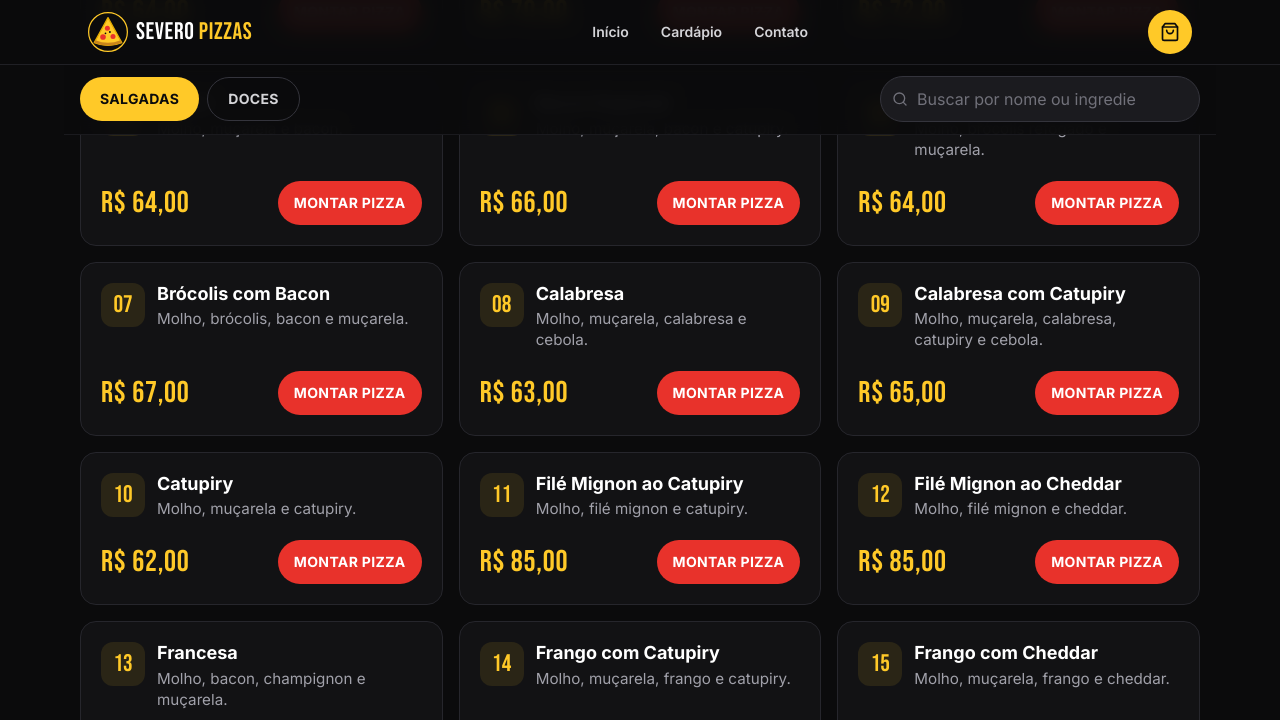
Test: personalizador › meio a meio cobra o sabor mais caro e soma adicional
This screenshot has width=1280, height=720.
(page scrolled)
Click the button with aria-label "Montar pizza Calabresa" at (728,393), box left=656, top=371, right=800, bottom=415
(page scrolled)
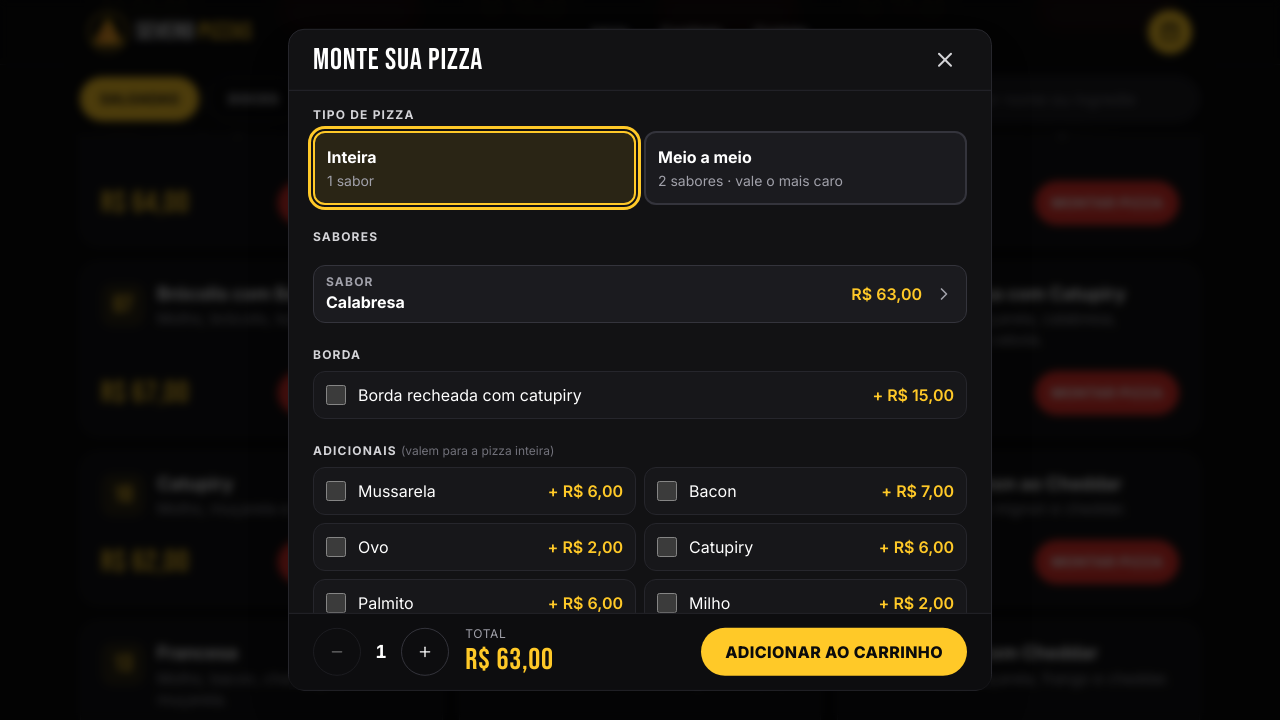
Expected: the text with test id "builder-total" reads "R$ 63,00", left=465, top=642, right=554, bottom=678
Click the radio button labelled "Meio a meio 2 sabores · vale o mais caro" at (705,157), box left=644, top=131, right=967, bottom=205
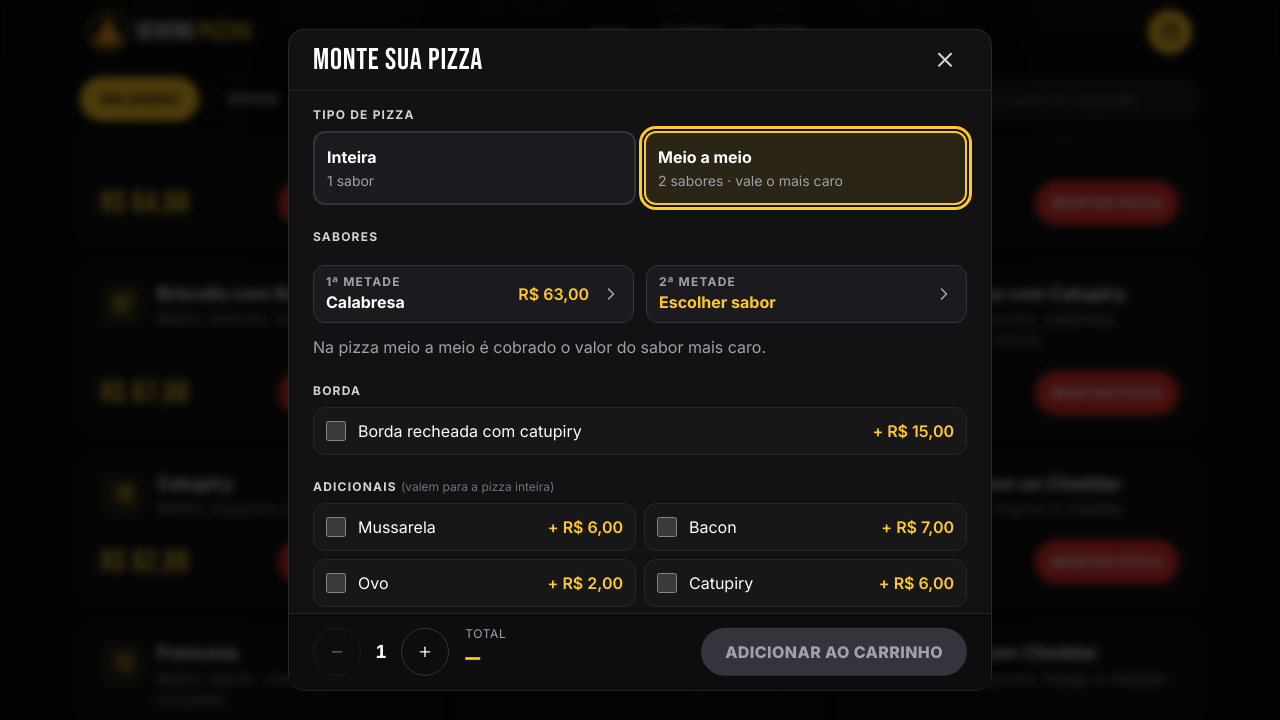
Click the button with aria-label "2ª metade:" at (698,281), box left=646, top=265, right=967, bottom=323
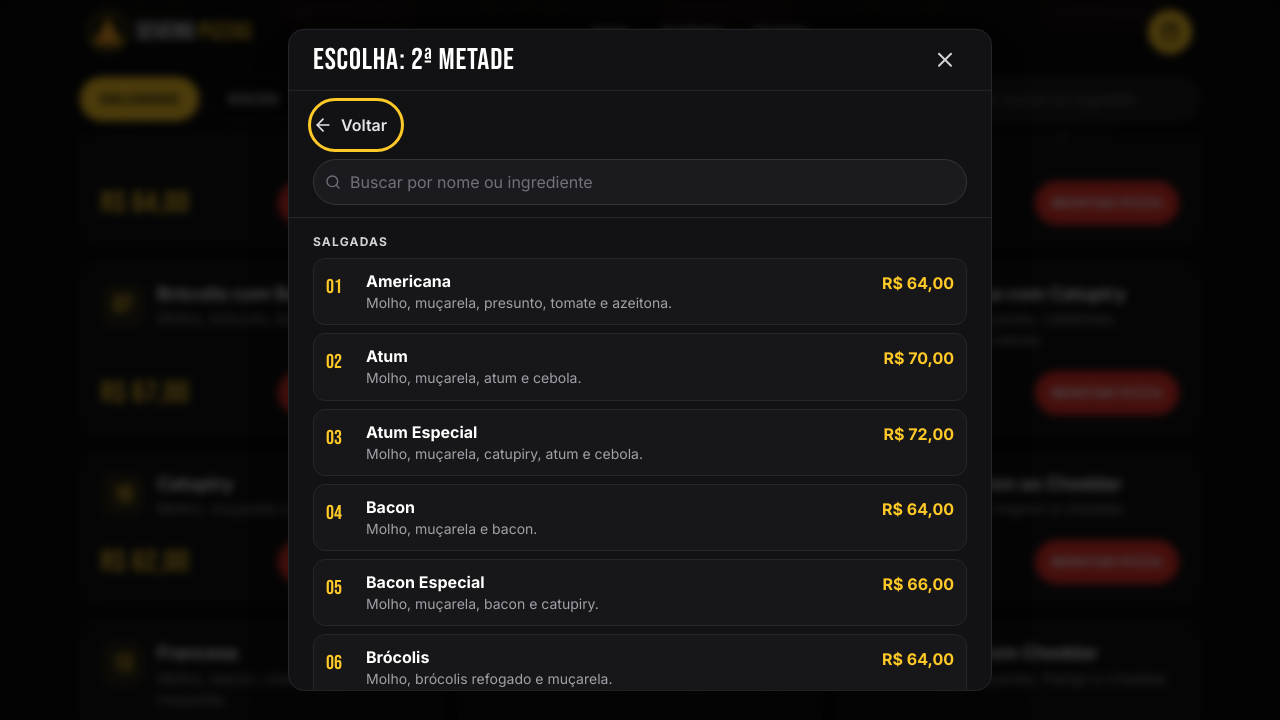
Click the button "02 Atum Molho, muçarela, atum e cebola. R$ 70,00" at (387,356), box left=313, top=333, right=967, bottom=400
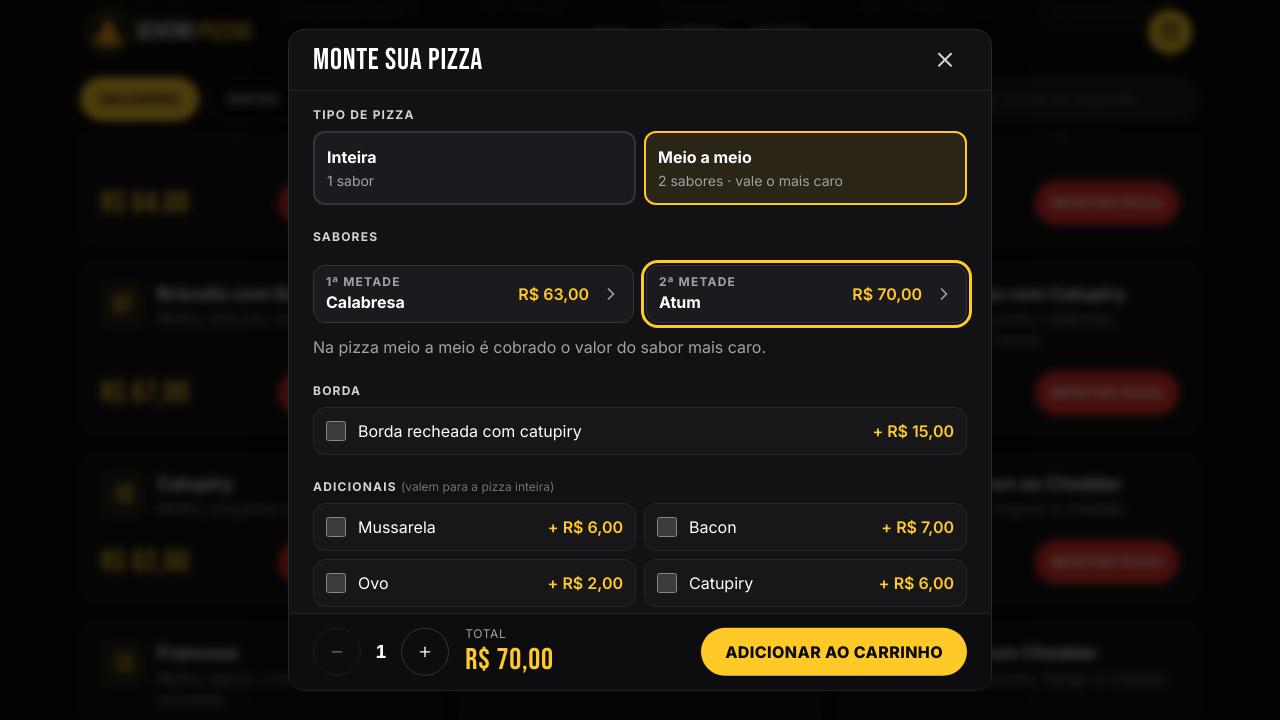
Expected: the text with test id "builder-total" reads "R$ 70,00", left=465, top=642, right=554, bottom=678
Click the checkbox labelled "Bacon + R$ 7,00" at (667,527), box left=657, top=517, right=677, bottom=537
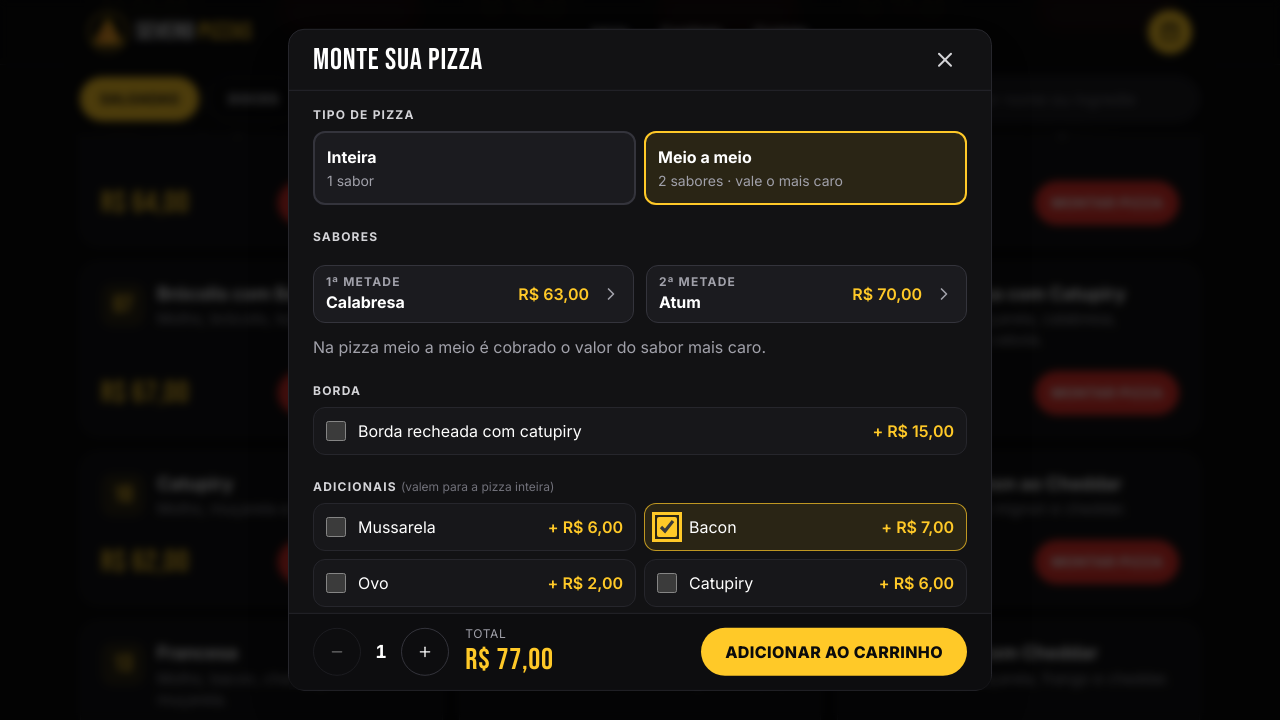
Expected: the text with test id "builder-total" reads "R$ 77,00", left=465, top=642, right=554, bottom=678
Click the button named "Aumentar quantidade" at (425,652), box left=401, top=628, right=449, bottom=676
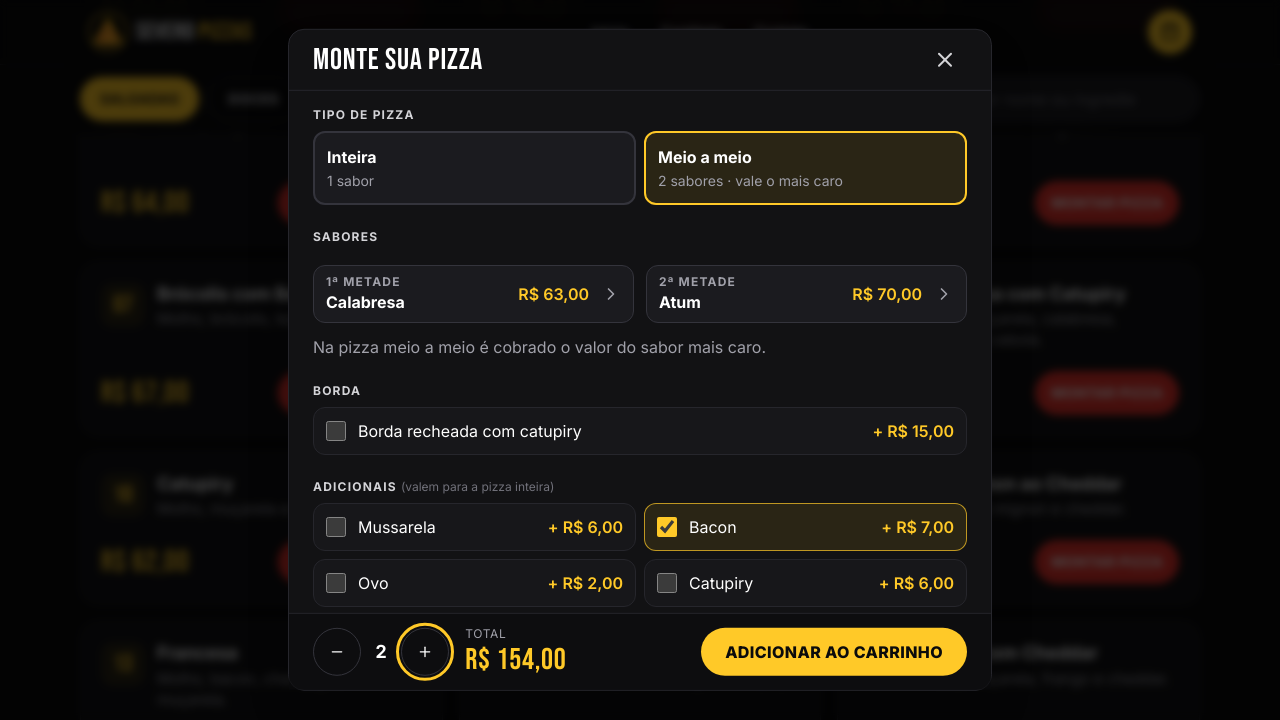
Expected: the text with test id "builder-total" reads "R$ 154,00", left=465, top=642, right=567, bottom=678
